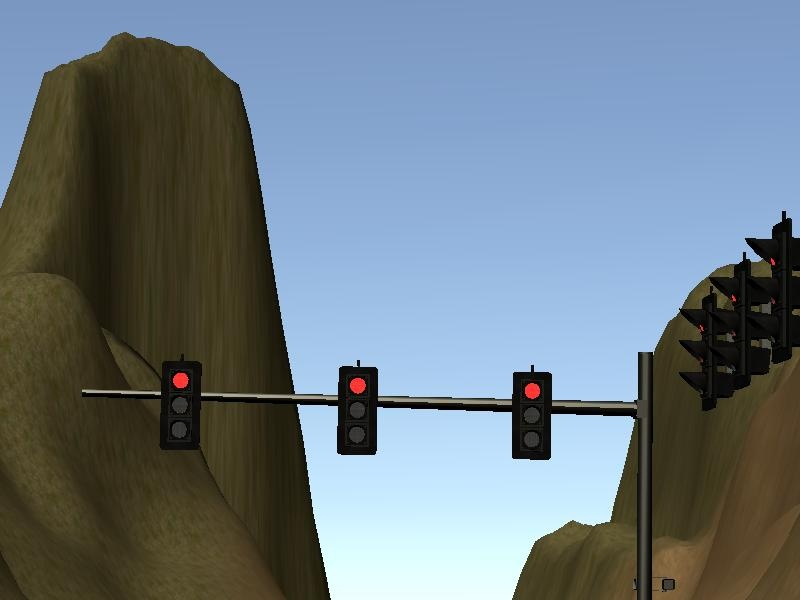RED: (157, 359, 202, 450), (335, 366, 377, 456), (510, 371, 552, 461)
